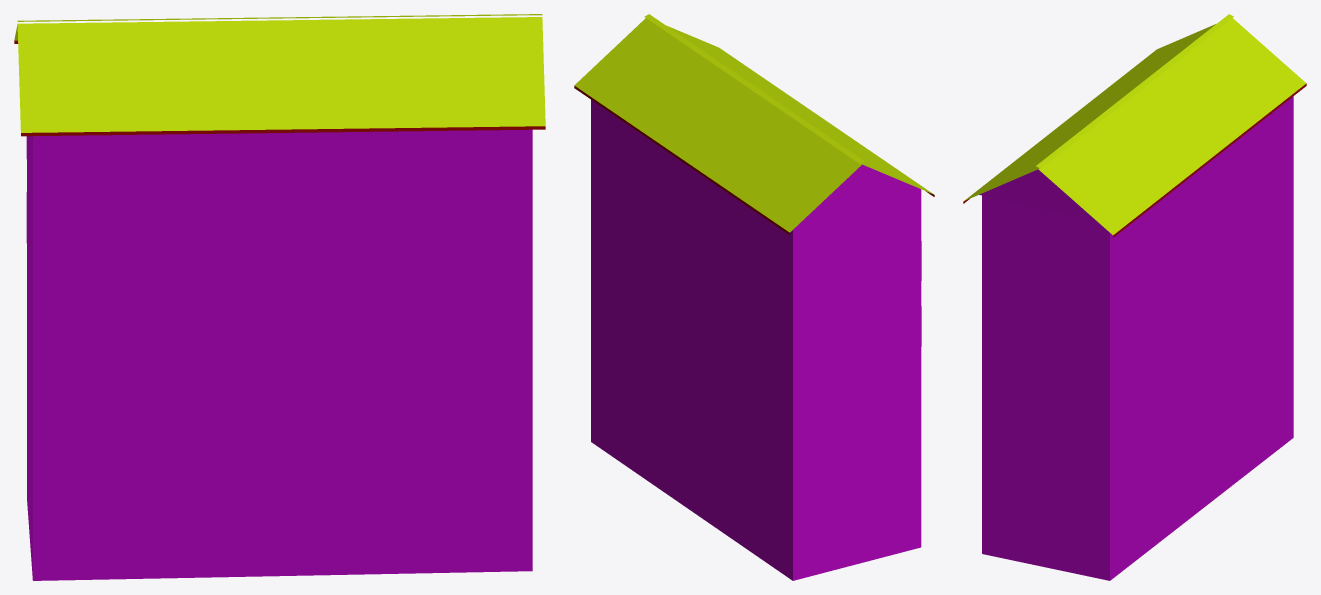
The picture shows the model from 3 angles, left to right: view 1: azimuth 30°, elevation 25°; view 2: azimuth 150°, elevation 25°; view 3: azimuth 270°, elevation 25°; orthographic projection. The views are drawn at different scales.
Parts seen in each view (by area): view 1: sc_90; view 2: sc_90; view 3: sc_90.
Boxes of the visible parts, x1,y1,x2,y2 form: sc_90: (14,14,545,580); sc_90: (574,14,934,580); sc_90: (963,14,1306,580).
Bounding box in the file's own units: 18.31 × 18.57 × 14.27.
